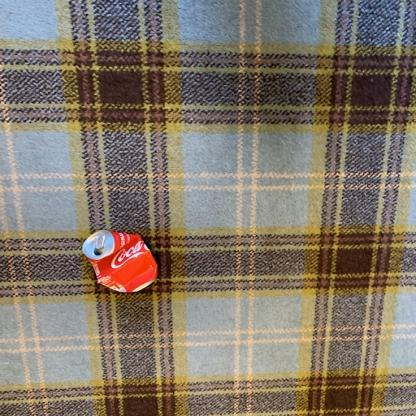trash: (84, 230, 163, 295)
